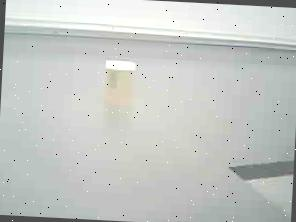Bottle B: (92, 51, 148, 113)
